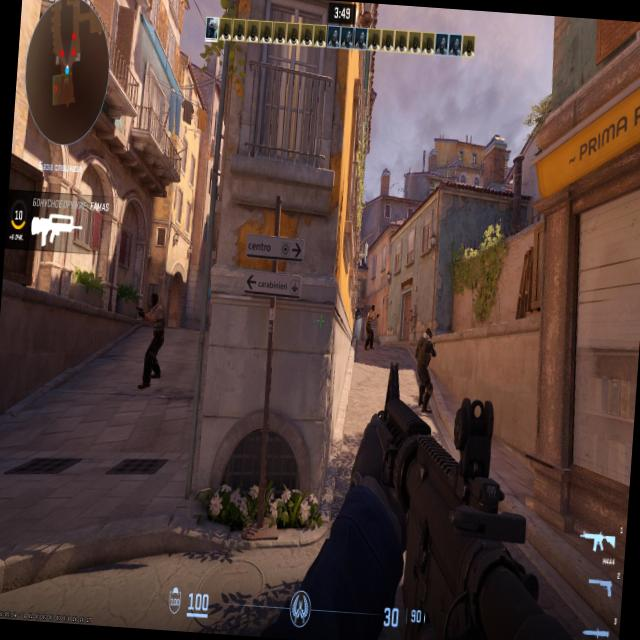CT: (414, 325, 435, 410)
CT_heat: (426, 328, 432, 341)
T: (142, 294, 166, 377), (366, 304, 376, 352)
T_heat: (151, 295, 157, 310), (372, 308, 374, 312)
